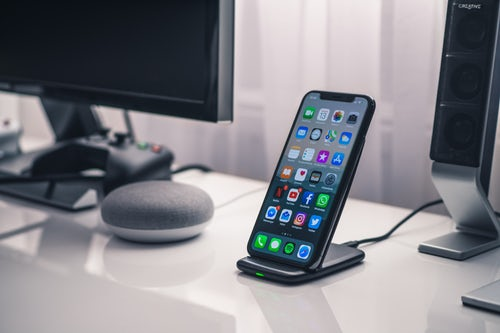phone: (247, 86, 371, 283)
